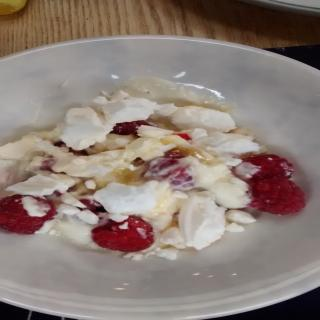Ice cream: (0, 92, 294, 264)
